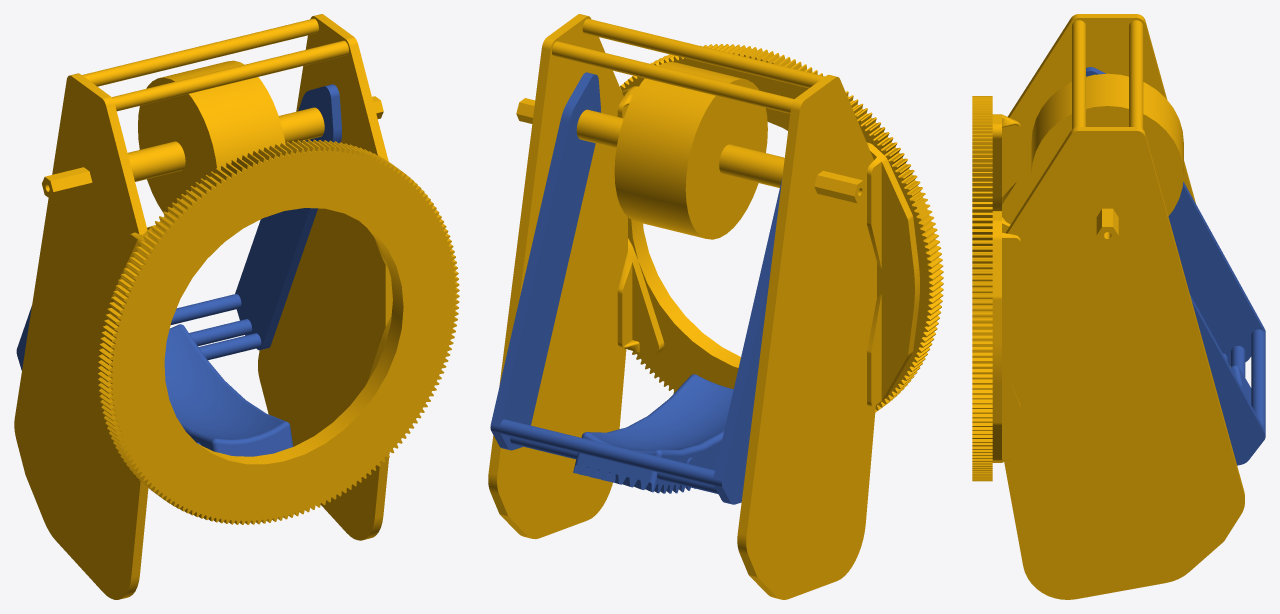
3 views of the same model, side by side, from view 1: azimuth 30°, elevation 25°; view 2: azimuth 150°, elevation 25°; view 3: azimuth 270°, elevation 25° (orthographic). The views are drawn at different scales.
Parts seen in each view (by area): view 1: Shooter, Hood; view 2: Shooter, Hood; view 3: Shooter, Hood.
Boxes of the visible parts, left/top/right/bottom form: Shooter: left=14, top=14, right=459, bottom=599; Hood: left=16, top=84, right=342, bottom=456; Shooter: left=488, top=14, right=943, bottom=599; Hood: left=490, top=72, right=782, bottom=504; Shooter: left=972, top=14, right=1244, bottom=599; Hood: left=1086, top=67, right=1265, bottom=465.
Size of the model in its own units: 0.2565 by 0.3447 by 0.1952.
